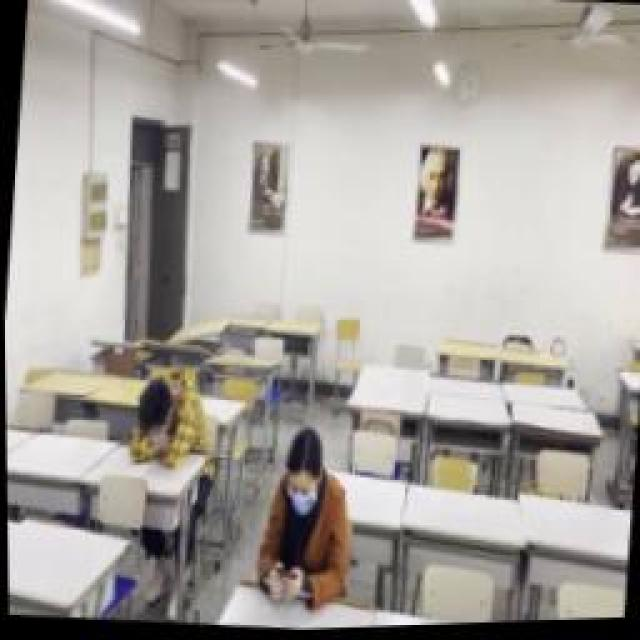phone: (250, 422, 355, 610)
sleep: (125, 360, 213, 468)
